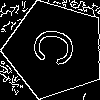C: (30, 24, 87, 73)
